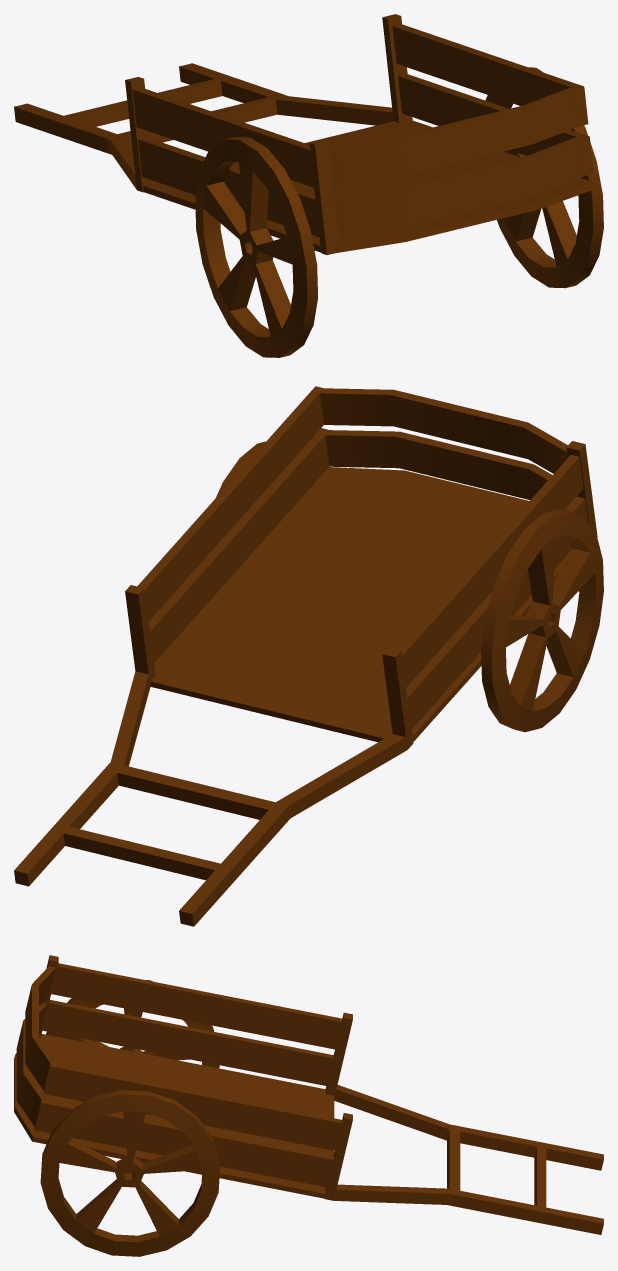
Rendered from Cart.fbx.
3 renders of one model, top to bottom at view 1: azimuth 30°, elevation 25°; view 2: azimuth 150°, elevation 25°; view 3: azimuth 270°, elevation 25°, orthographic. The views are drawn at different scales.
Visible parts, largest first — view 1: pPipe3; view 2: pPipe3; view 3: pPipe3.
Part boxes in pixels (left/top/right/bottom): pPipe3: left=14, top=14, right=603, bottom=357; pPipe3: left=14, top=386, right=603, bottom=926; pPipe3: left=14, top=955, right=603, bottom=1256.
Bounding box in the file's own units: 159 × 121 × 335.
